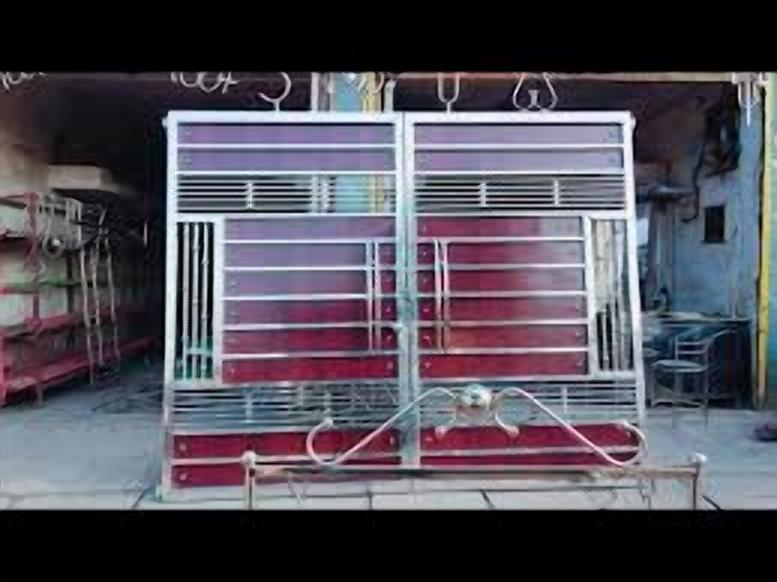Gate: (161, 108, 647, 488)
